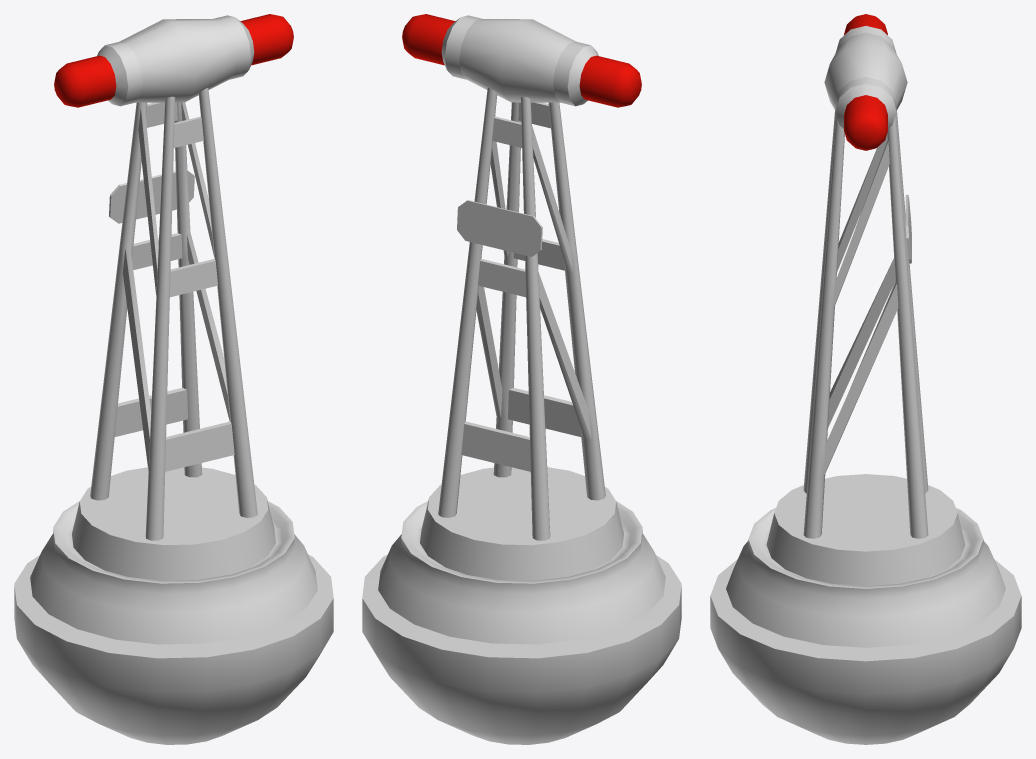
Rendered from Buoy-M00A.fbx.
3 views of the same model, side by side, from view 1: azimuth 30°, elevation 25°; view 2: azimuth 150°, elevation 25°; view 3: azimuth 270°, elevation 25° (orthographic). The views are drawn at different scales.
Parts seen in each view (by area): view 1: Boui-M00A; view 2: Boui-M00A; view 3: Boui-M00A.
Boxes of the visible parts, bbox=[...] form: Boui-M00A: bbox=[14, 14, 333, 744]; Boui-M00A: bbox=[362, 14, 681, 744]; Boui-M00A: bbox=[710, 14, 1021, 744].
Size of the model in its own units: 133 by 320 by 133.
